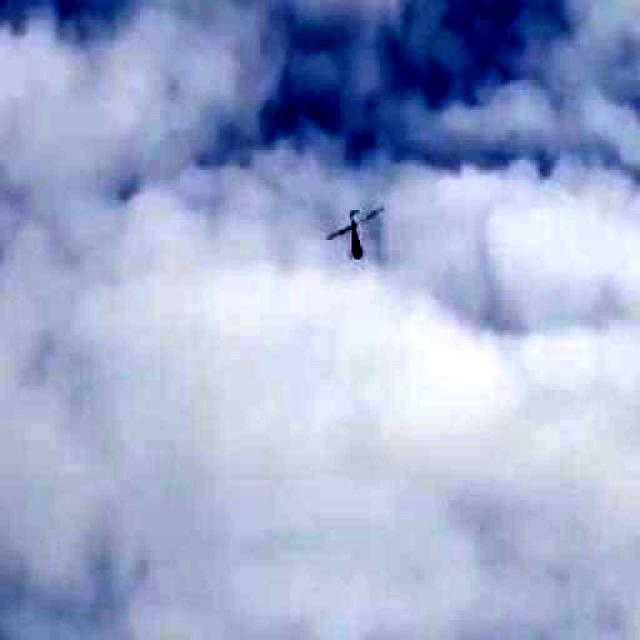drone: (301, 166, 398, 276)
